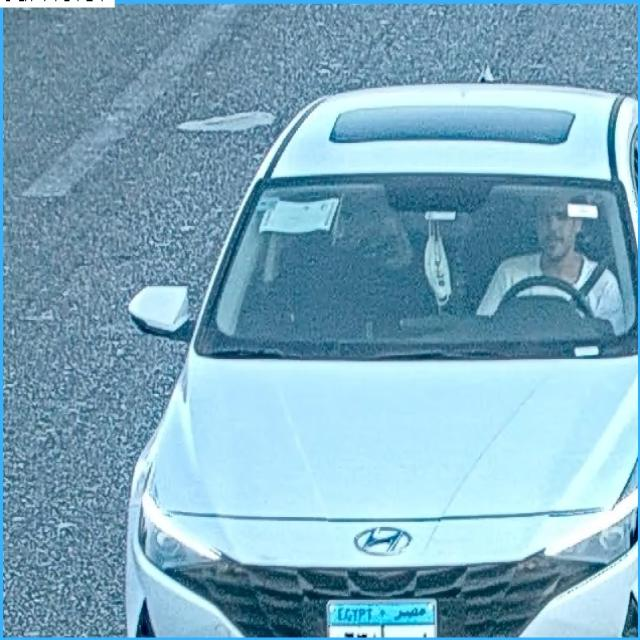windshield: (201, 176, 634, 351)
